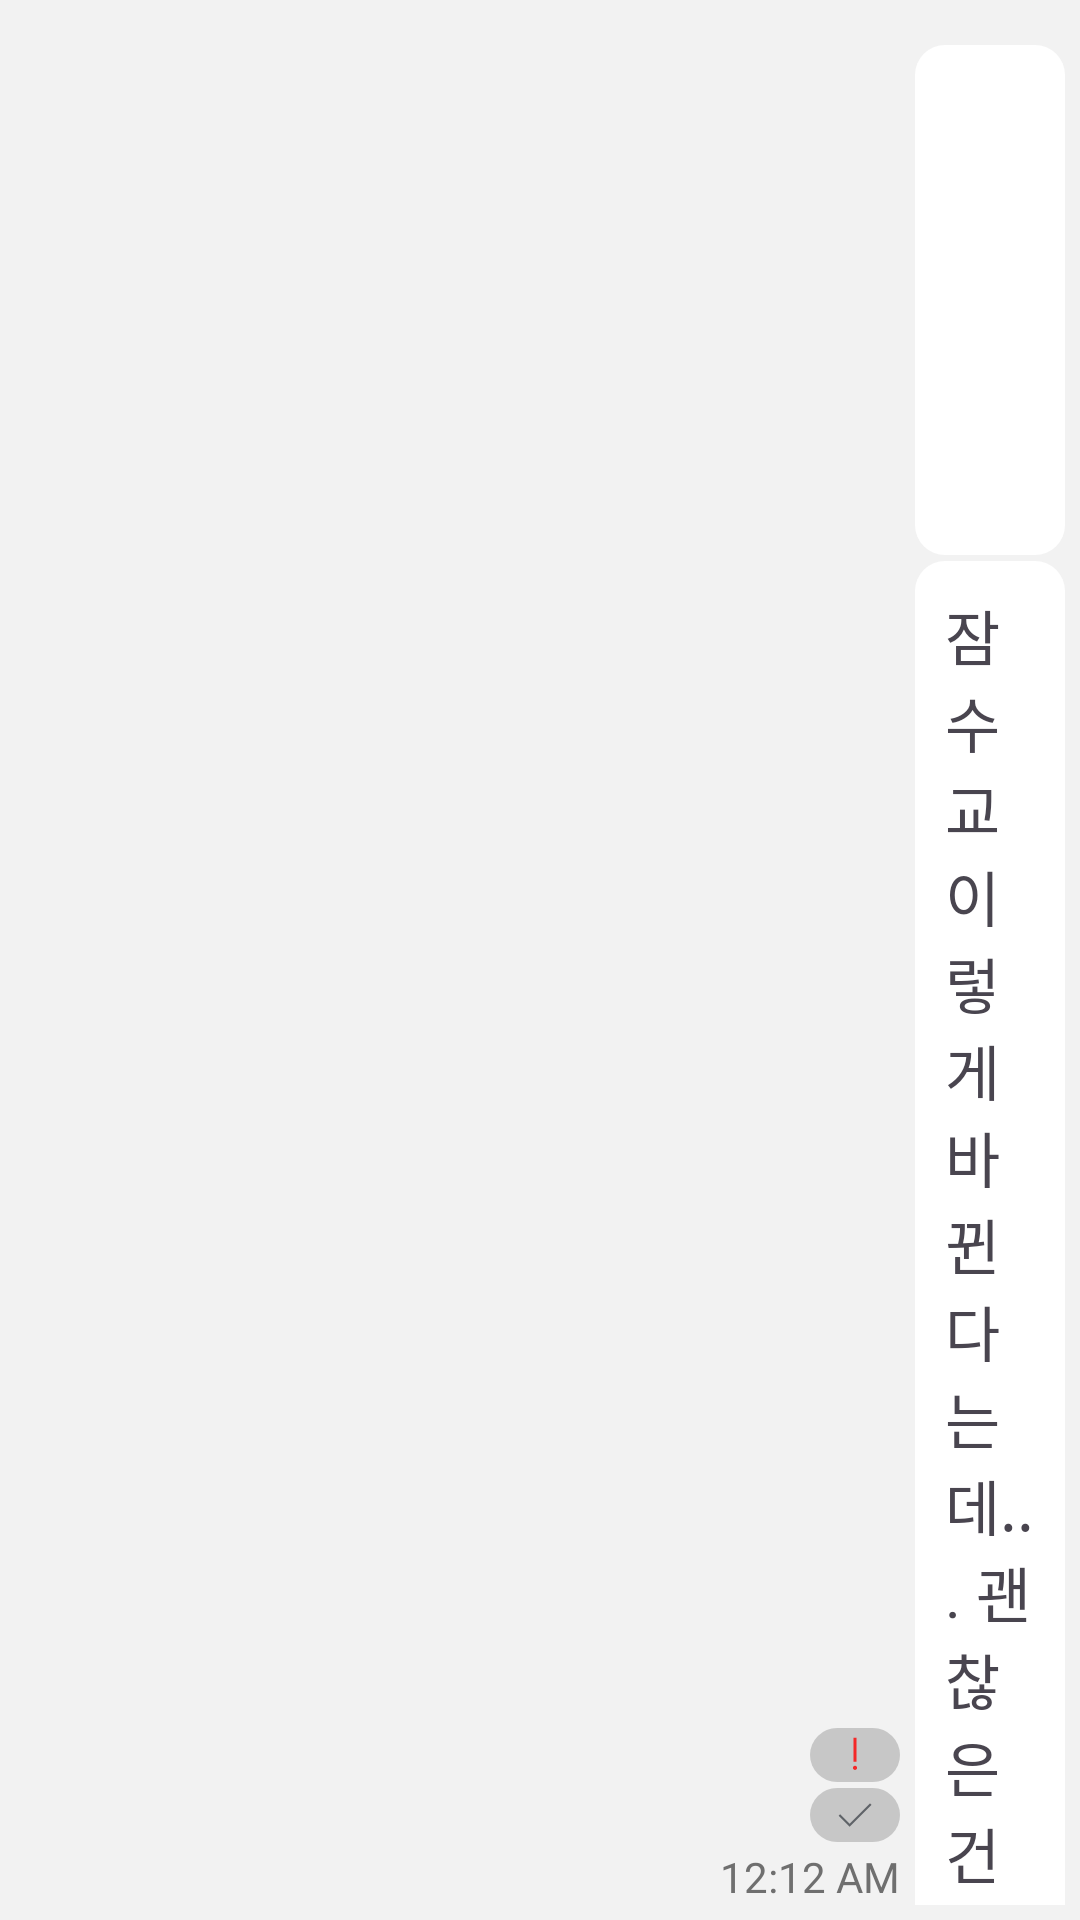

Named icons in this screenshot (1080x1920) and their centers, (x=x, y=y):
check: (x=855, y=1815)
exclamation: (x=855, y=1755)
